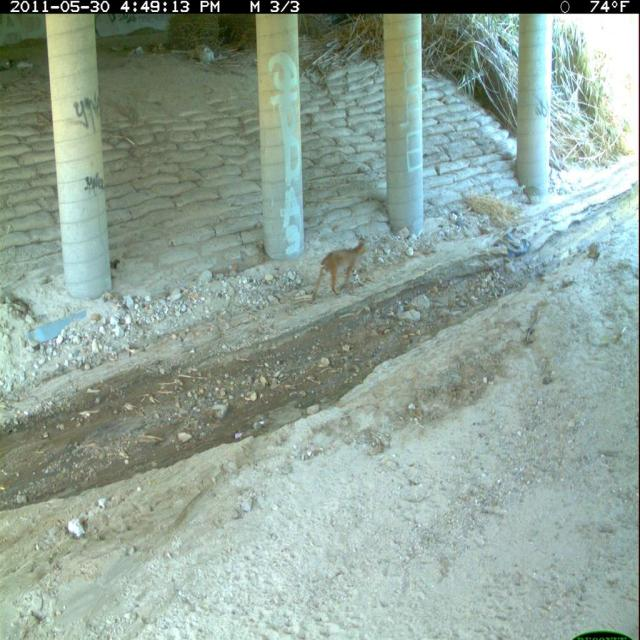bobcat: (308, 231, 376, 309)
